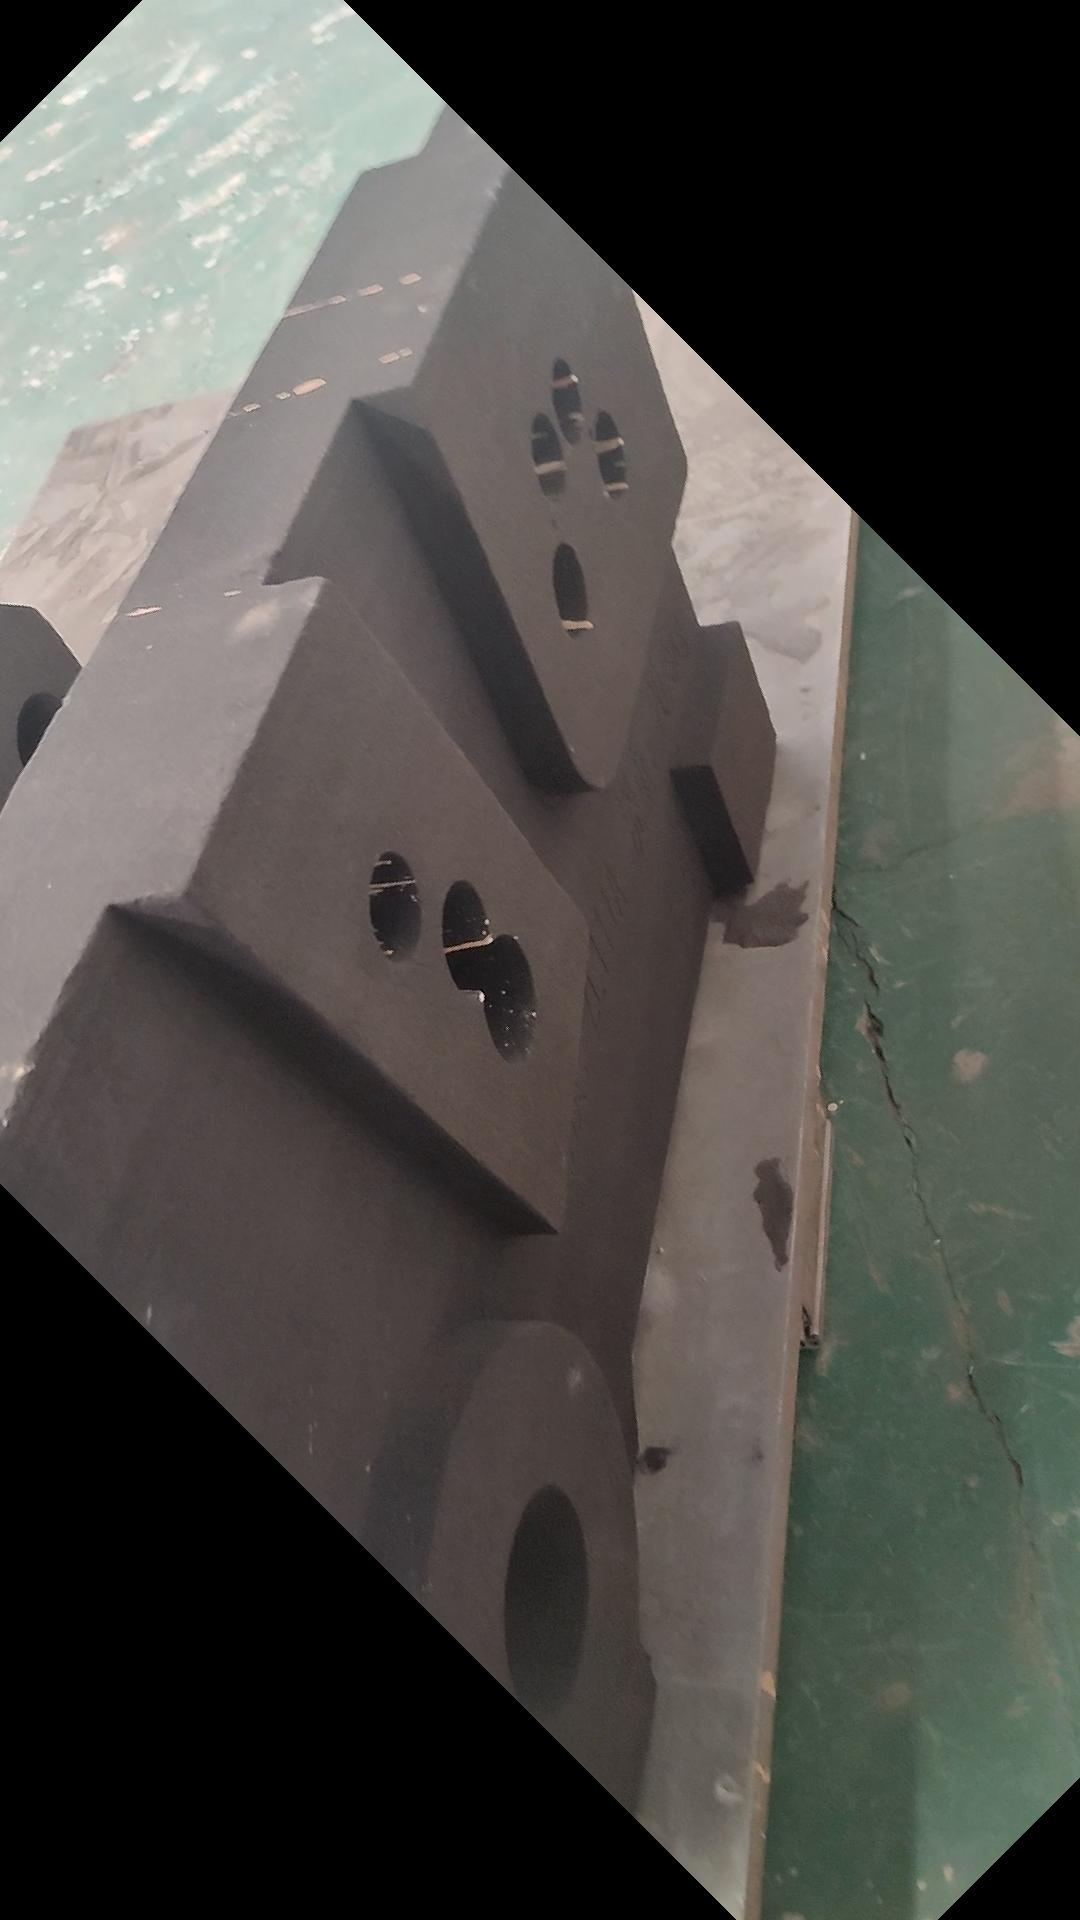pouring hole: (502, 1486, 589, 1717), (15, 694, 75, 762)
